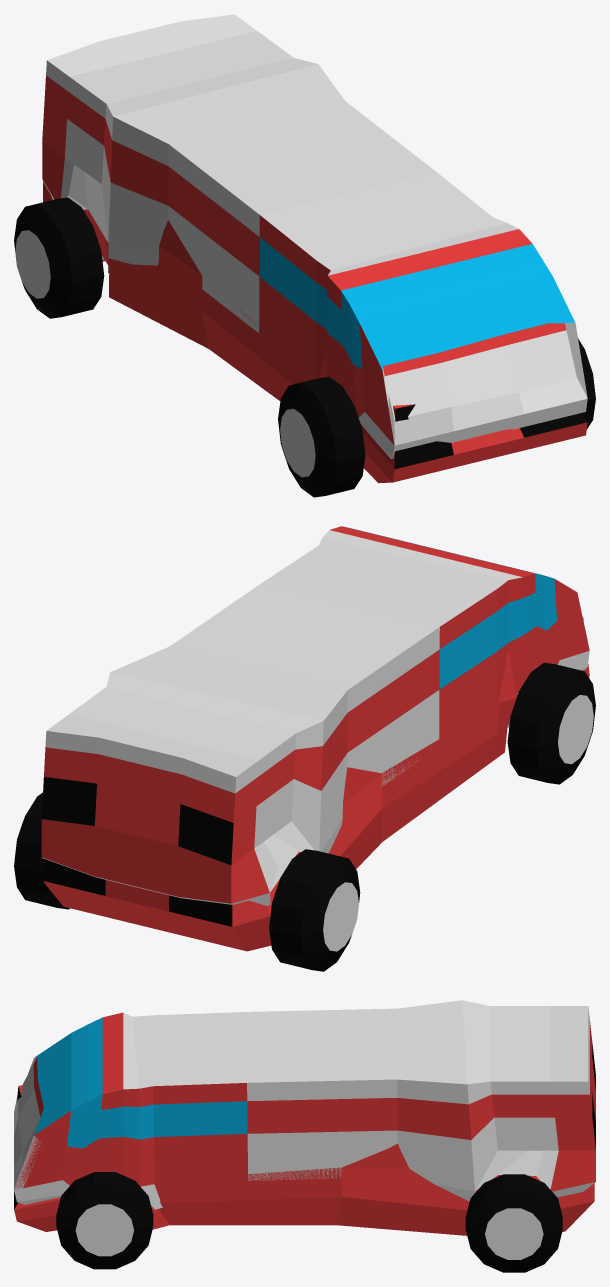
File: carcar.fbx
The picture shows the model from 3 angles, top to bottom: view 1: azimuth 30°, elevation 25°; view 2: azimuth 150°, elevation 25°; view 3: azimuth 270°, elevation 25°; orthographic projection. The views are drawn at different scales.
Visible parts, largest first — view 1: Car_level2, Car_level1, Cylinder.001, Cylinder; view 2: Car_level2, Car_level1, Cylinder, Cylinder.001; view 3: Car_level2, Car_level1, Cylinder, Cylinder.001.
Boxes of the visible parts, x1,y1,x2,y2 form: Car_level2: [42, 14, 587, 458]; Car_level1: [43, 181, 587, 483]; Cylinder.001: [278, 338, 595, 497]; Cylinder: [14, 197, 104, 318]; Car_level2: [41, 526, 589, 905]; Car_level1: [42, 617, 589, 951]; Cylinder: [14, 792, 360, 971]; Cylinder.001: [507, 662, 595, 784]; Car_level2: [14, 1000, 595, 1209]; Car_level1: [14, 1085, 594, 1235]; Cylinder: [465, 1174, 562, 1272]; Cylinder.001: [56, 1172, 153, 1269].
Size of the model in its own units: 356 by 241 by 716.
